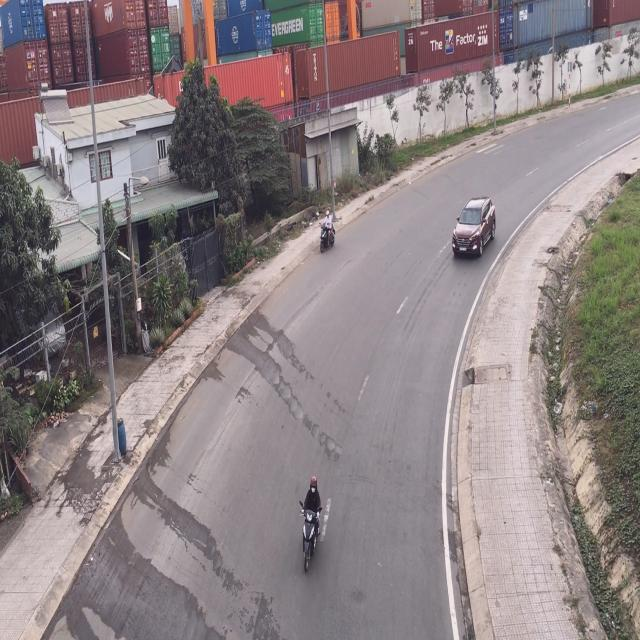car: (453, 198, 498, 259)
motorbike: (298, 479, 326, 576), (317, 210, 336, 256)
